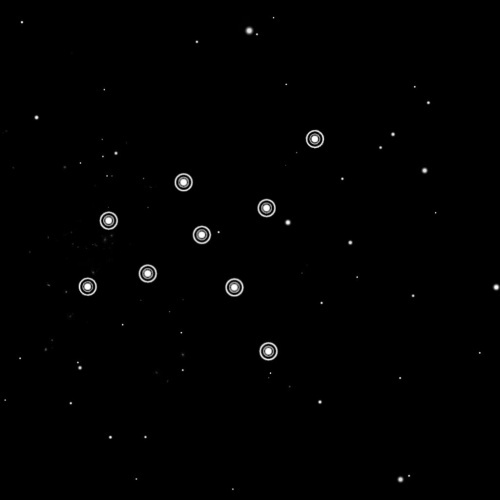cygnus: (74, 124, 327, 364)
